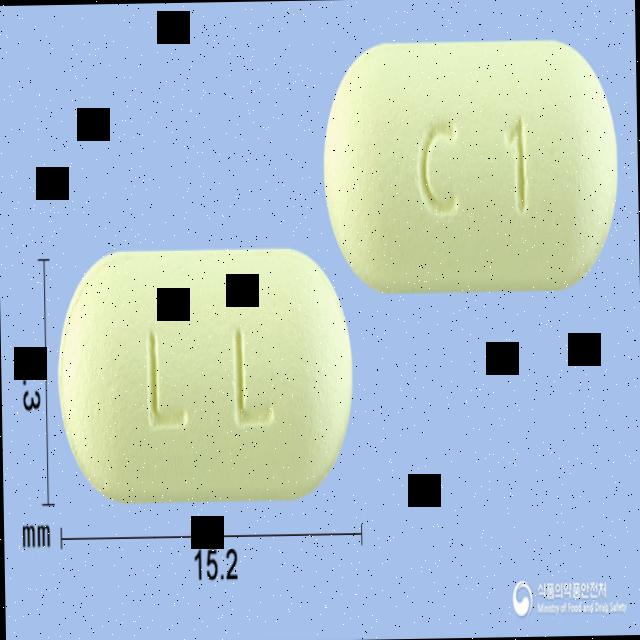Clratomin - 500mg: (56, 242, 356, 503), (320, 34, 620, 294)
